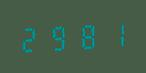eight: (72, 20, 98, 51)
nine: (45, 21, 71, 53)
one: (99, 18, 125, 50)
two: (18, 22, 44, 54)
